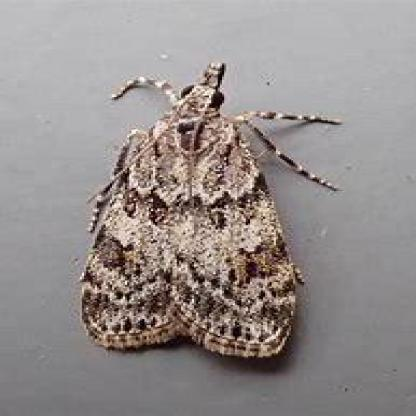Hellula undalis: (77, 51, 352, 364)
